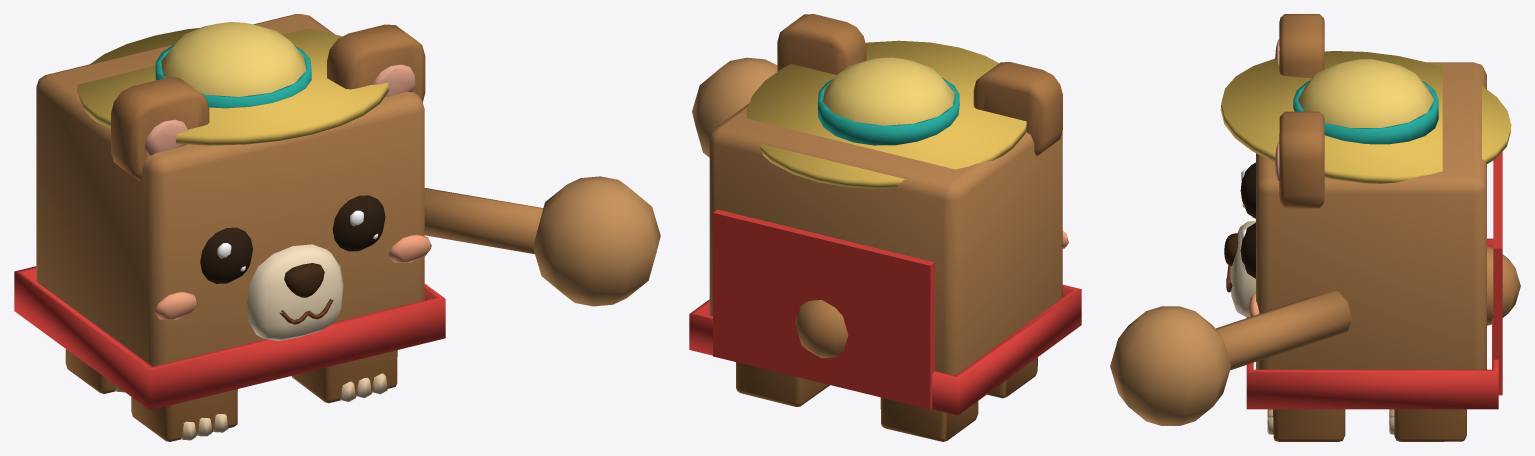
The model's file is Anime_Pirat.fbx.
The picture shows the model from 3 angles, left to right: view 1: azimuth 30°, elevation 25°; view 2: azimuth 150°, elevation 25°; view 3: azimuth 270°, elevation 25°; orthographic projection. The views are drawn at different scales.
Parts seen in each view (by area): view 1: Anime_Pirat_body, Anime_Pirat_acc_shirt, Anime_Pirat_acc_gum_fist, Anime_Pirat_acc_hat_brim, Anime_Pirat_ears, Anime_Pirat_acc_hat_crown, Anime_Pirat_feet, Anime_Pirat_muzzle, Anime_Pirat_acc_gum_arm, Anime_Pirat_eyes, Anime_Pirat, Anime_Pirat_acc_hat_band (+4 smaller); view 2: Anime_Pirat_body, Anime_Pirat_acc_shirt_back, Anime_Pirat_acc_hat_brim, Anime_Pirat_ears, Anime_Pirat_acc_shirt, Anime_Pirat_acc_hat_crown, Anime_Pirat_feet, Anime_Pirat_acc_gum_fist, Anime_Pirat_acc_hat_band, Anime_Pirat_cute_tail; view 3: Anime_Pirat_body, Anime_Pirat_acc_hat_brim, Anime_Pirat_acc_gum_fist, Anime_Pirat_acc_shirt, Anime_Pirat_ears, Anime_Pirat_acc_hat_crown, Anime_Pirat_acc_gum_arm, Anime_Pirat_feet, Anime_Pirat_acc_hat_band, Anime_Pirat_acc_shirt_back, Anime_Pirat_cute_tail, Anime_Pirat_eyes (+2 smaller).
Part boxes in pixels (x1=…): Anime_Pirat_body: x1=36, y1=14, x2=424, y2=366; Anime_Pirat_acc_shirt: x1=14, y1=266, x2=445, y2=410; Anime_Pirat_acc_gum_fist: x1=533, y1=176, x2=660, y2=306; Anime_Pirat_acc_hat_brim: x1=77, y1=28, x2=388, y2=145; Anime_Pirat_ears: x1=111, y1=24, x2=425, y2=181; Anime_Pirat_acc_hat_crown: x1=161, y1=22, x2=306, y2=96; Anime_Pirat_feet: x1=65, y1=349, x2=397, y2=441; Anime_Pirat_muzzle: x1=247, y1=244, x2=343, y2=340; Anime_Pirat_acc_gum_arm: x1=424, y1=188, x2=543, y2=254; Anime_Pirat_eyes: x1=200, y1=195, x2=385, y2=283; Anime_Pirat: x1=350, y1=64, x2=431, y2=262; Anime_Pirat_acc_hat_band: x1=155, y1=44, x2=311, y2=108; Anime_Pirat_body: x1=709, y1=103, x2=1062, y2=375; Anime_Pirat_acc_shirt_back: x1=713, y1=209, x2=934, y2=409; Anime_Pirat_acc_hat_brim: x1=746, y1=40, x2=1026, y2=188; Anime_Pirat_ears: x1=777, y1=14, x2=1062, y2=156; Anime_Pirat_acc_shirt: x1=689, y1=284, x2=1081, y2=415; Anime_Pirat_acc_hat_crown: x1=822, y1=57, x2=954, y2=125; Anime_Pirat_feet: x1=736, y1=357, x2=1037, y2=441; Anime_Pirat_acc_gum_fist: x1=692, y1=57, x2=777, y2=157; Anime_Pirat_acc_hat_band: x1=818, y1=77, x2=959, y2=145; Anime_Pirat_cute_tail: x1=795, y1=300, x2=848, y2=358; Anime_Pirat_body: x1=1256, y1=62, x2=1486, y2=369; Anime_Pirat_acc_hat_brim: x1=1220, y1=51, x2=1511, y2=183; Anime_Pirat_acc_gum_fist: x1=1110, y1=306, x2=1231, y2=425; Anime_Pirat_acc_shirt: x1=1246, y1=238, x2=1498, y2=409; Anime_Pirat_ears: x1=1279, y1=14, x2=1324, y2=208; Anime_Pirat_acc_hat_crown: x1=1298, y1=59, x2=1433, y2=127; Anime_Pirat_acc_gum_arm: x1=1215, y1=291, x2=1351, y2=370; Anime_Pirat_feet: x1=1273, y1=409, x2=1466, y2=441; Anime_Pirat_acc_hat_band: x1=1293, y1=81, x2=1438, y2=144; Anime_Pirat_acc_shirt_back: x1=1493, y1=152, x2=1502, y2=395; Anime_Pirat_cute_tail: x1=1487, y1=246, x2=1520, y2=325; Anime_Pirat_eyes: x1=1240, y1=162, x2=1255, y2=278.
Size of the model in its own units: 365 by 265 by 305.
